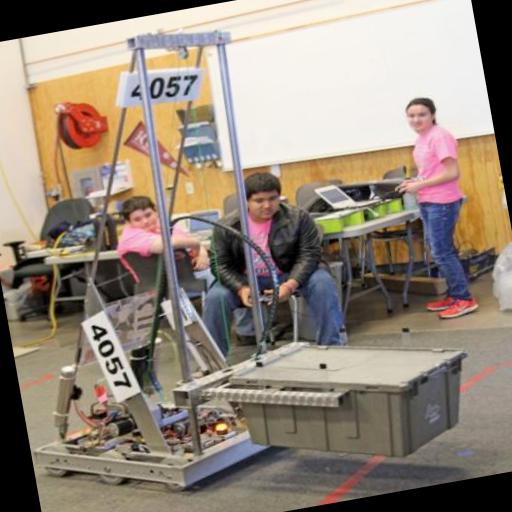robot: (0, 7, 387, 512)
